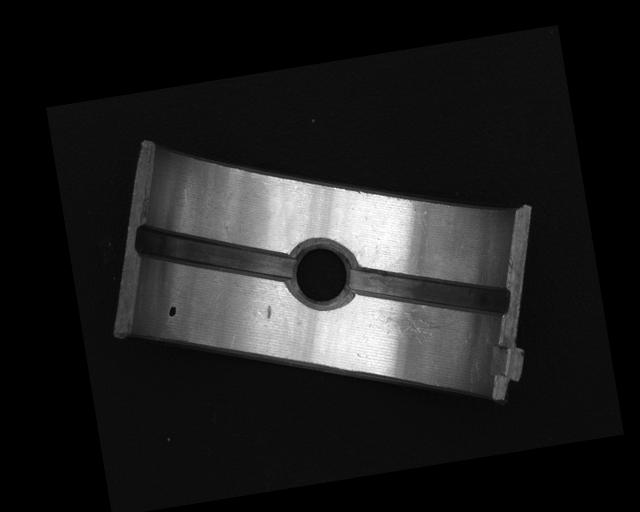blot: (166, 304, 178, 319)
bruise: (265, 305, 273, 319)
gap: (132, 205, 296, 301), (348, 245, 514, 338)
hole: (282, 236, 358, 312)
scratch: (373, 295, 464, 353)
